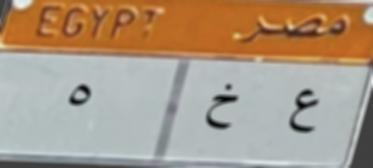5: (64, 80, 107, 112)
ain: (287, 85, 323, 144)
khaa: (203, 77, 242, 140)
